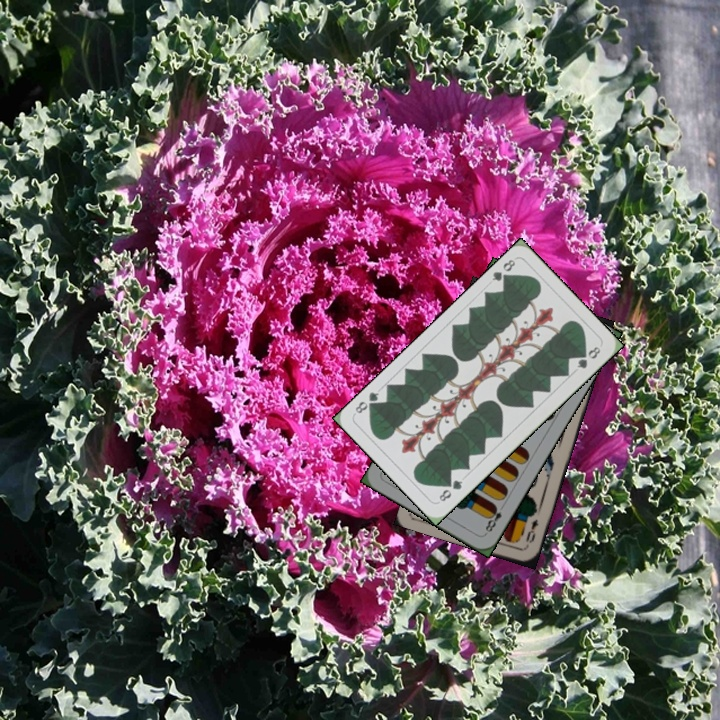E8: (481, 500, 507, 537)
EO: (522, 515, 541, 545)
G8: (488, 255, 518, 286), (435, 476, 465, 504)
